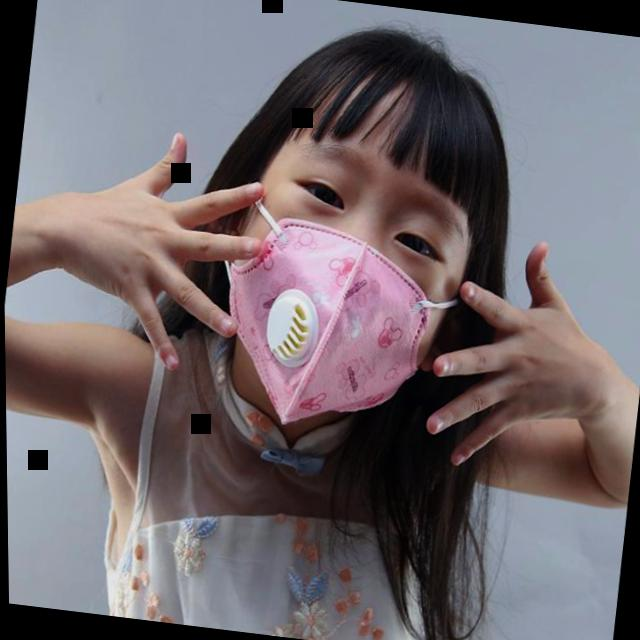Mask: (166, 0, 530, 462)
